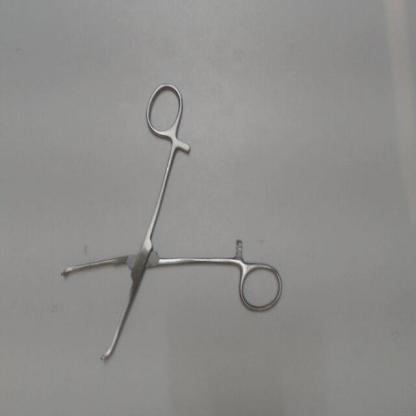Allis Tissue Forceps: (52, 75, 290, 376)
